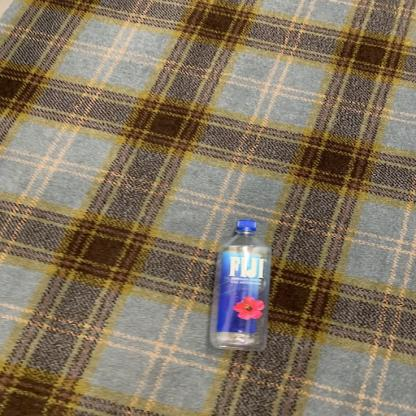trash: (206, 218, 274, 354)
